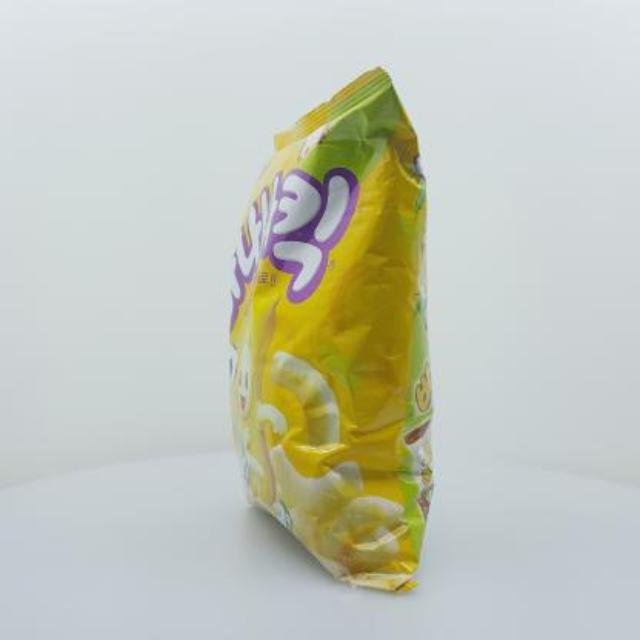snack_bag: (216, 50, 472, 606)
